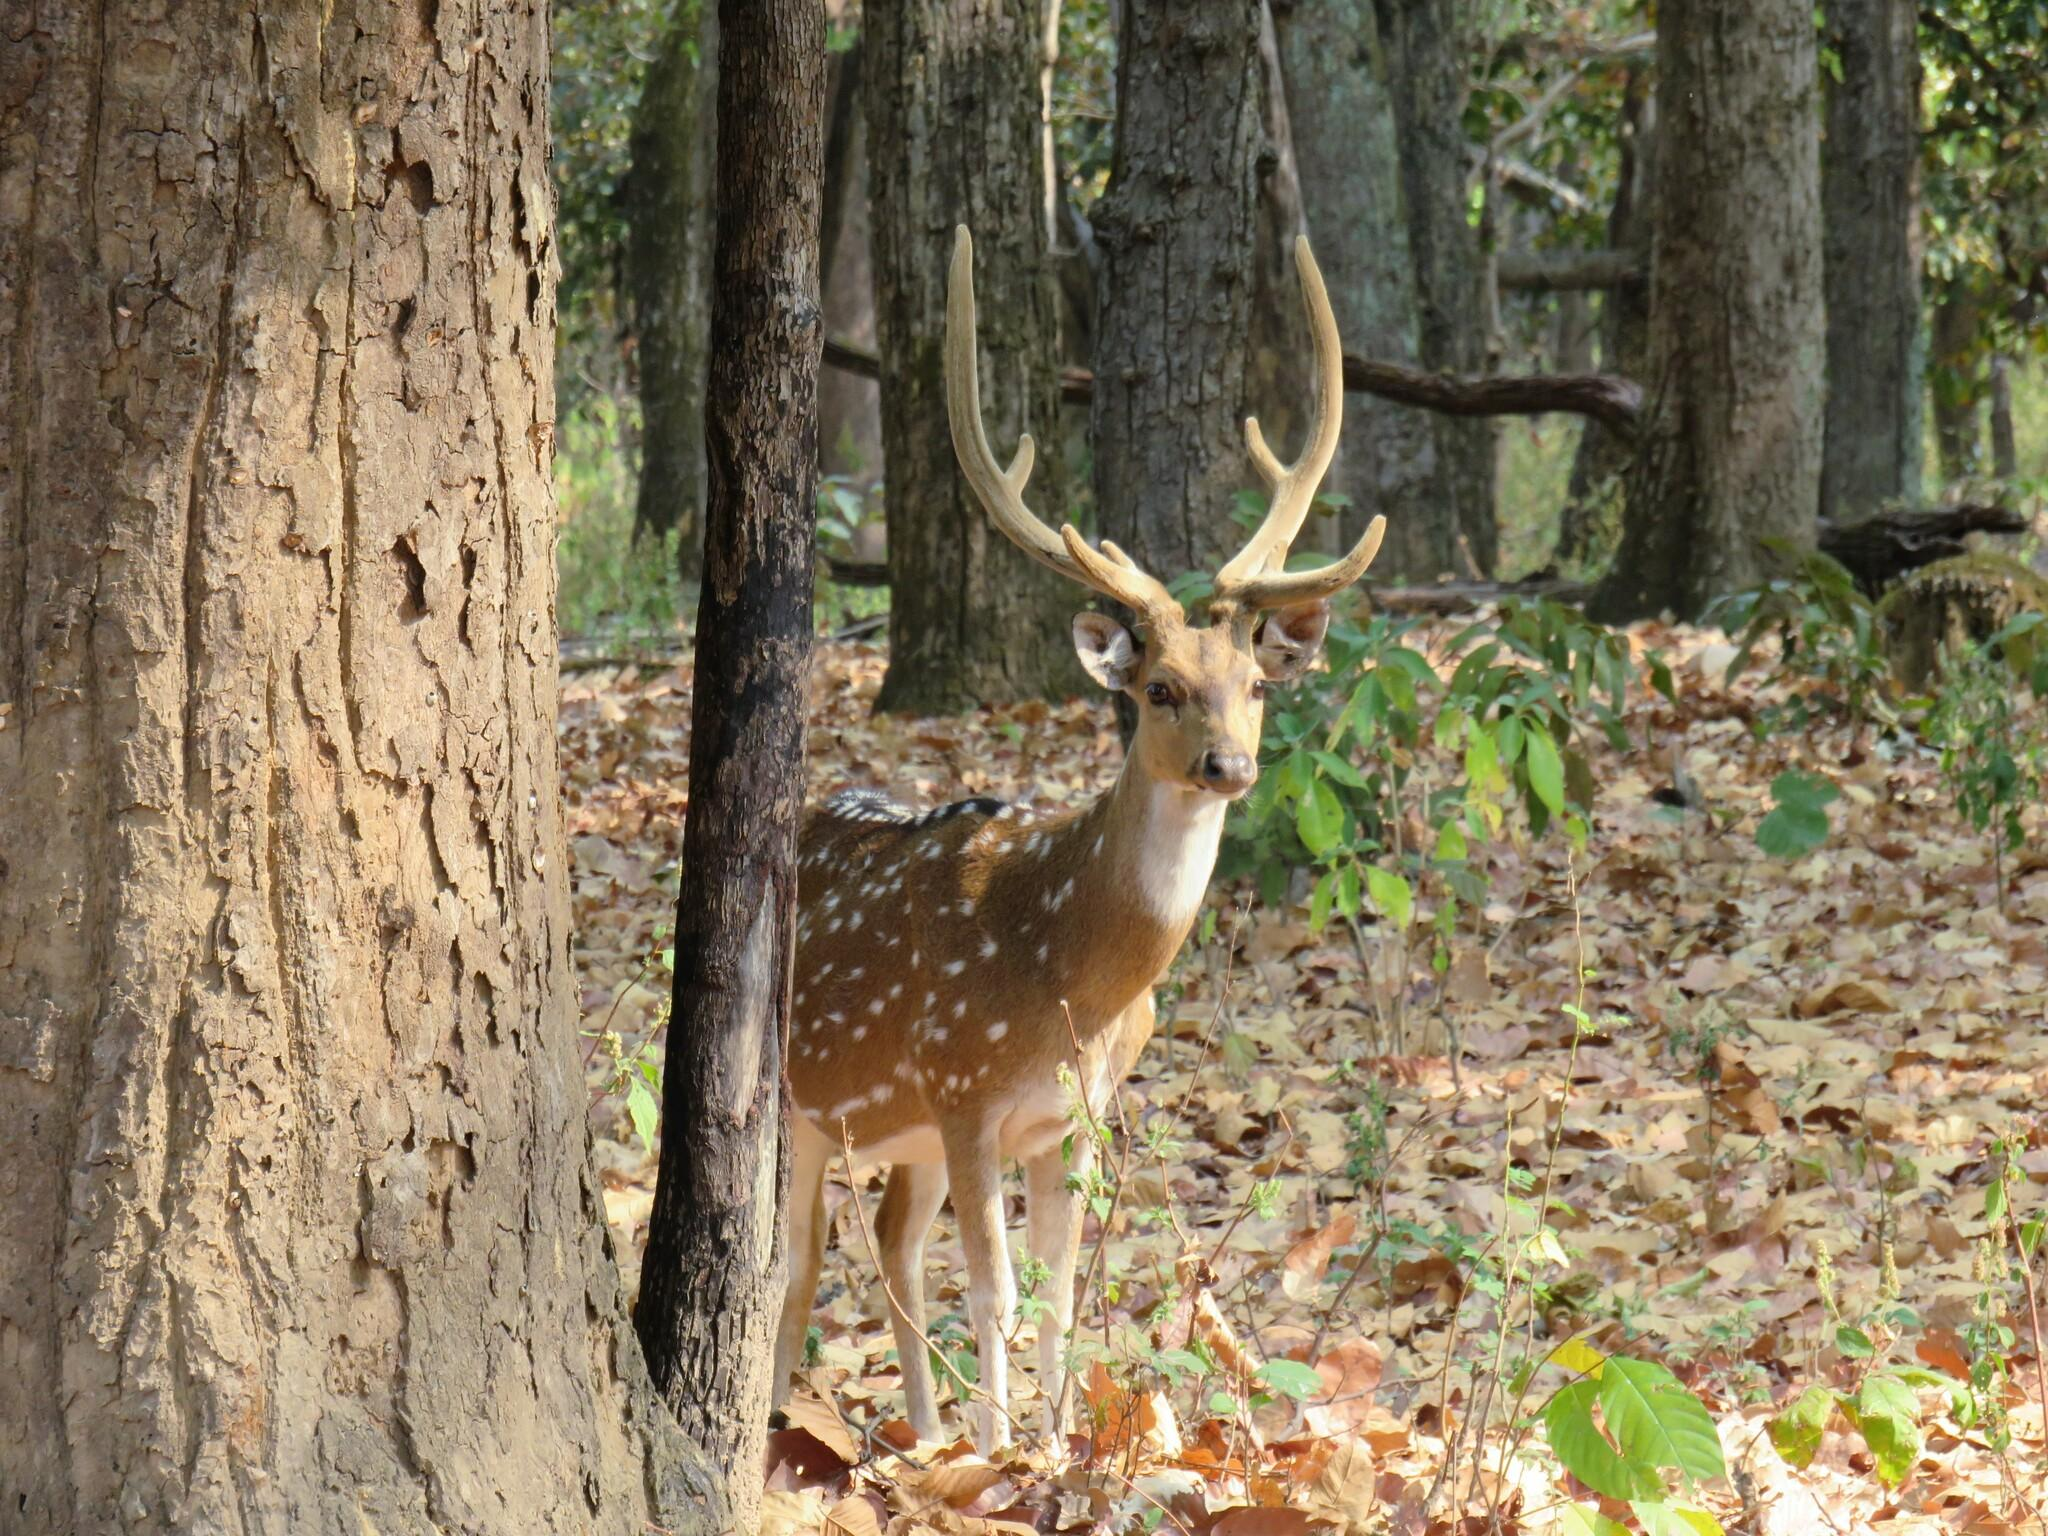Deer: (772, 236, 1385, 1449)
